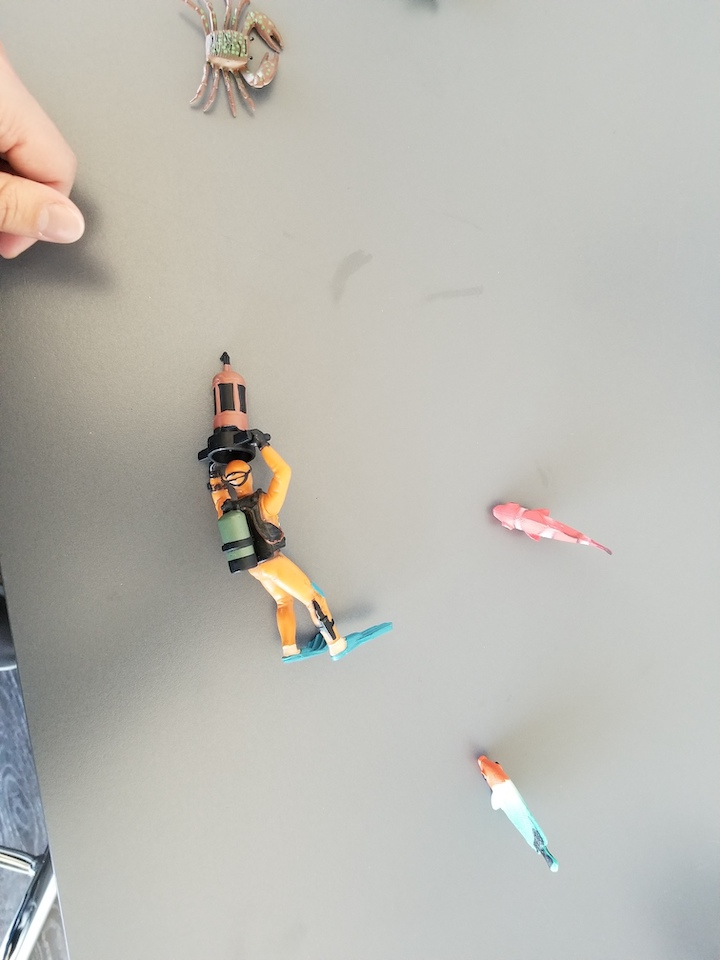crab: (180, 1, 285, 124)
diver: (199, 348, 398, 670)
fish: (473, 750, 564, 880), (483, 498, 619, 567)
